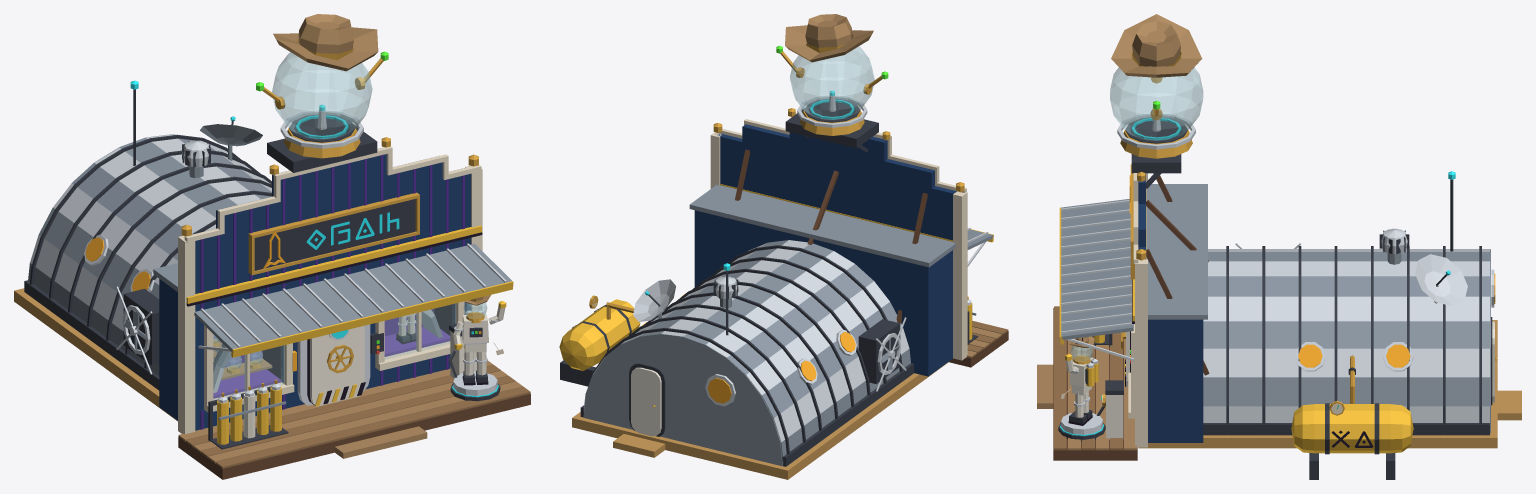
Rendered from Bldg_SuitShop.obj.
3 views of the same model, side by side, from view 1: azimuth 30°, elevation 25°; view 2: azimuth 150°, elevation 25°; view 3: azimuth 270°, elevation 25° (orthographic). The views are drawn at different scales.
Parts seen in each view (by area): view 1: Bldg_SuitShop_Body, Bldg_SuitShop_Door, Bldg_SuitShop_Turntable; view 2: Bldg_SuitShop_Body; view 3: Bldg_SuitShop_Body, Bldg_SuitShop_Turntable.
Boxes of the visible parts, bbox=[...] form: Bldg_SuitShop_Body: bbox=[14, 14, 530, 479]; Bldg_SuitShop_Door: bbox=[310, 325, 365, 406]; Bldg_SuitShop_Turntable: bbox=[450, 295, 506, 401]; Bldg_SuitShop_Body: bbox=[559, 14, 1008, 479]; Bldg_SuitShop_Body: bbox=[1037, 14, 1521, 479]; Bldg_SuitShop_Turntable: bbox=[1058, 336, 1105, 441].
Size of the model in its own units: 10 by 10.43 by 12.67.
